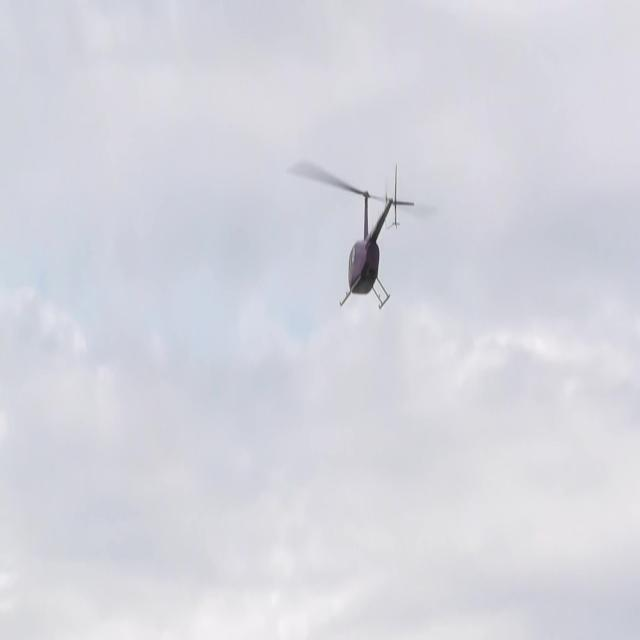CIV_HELO: (338, 162, 416, 311)
